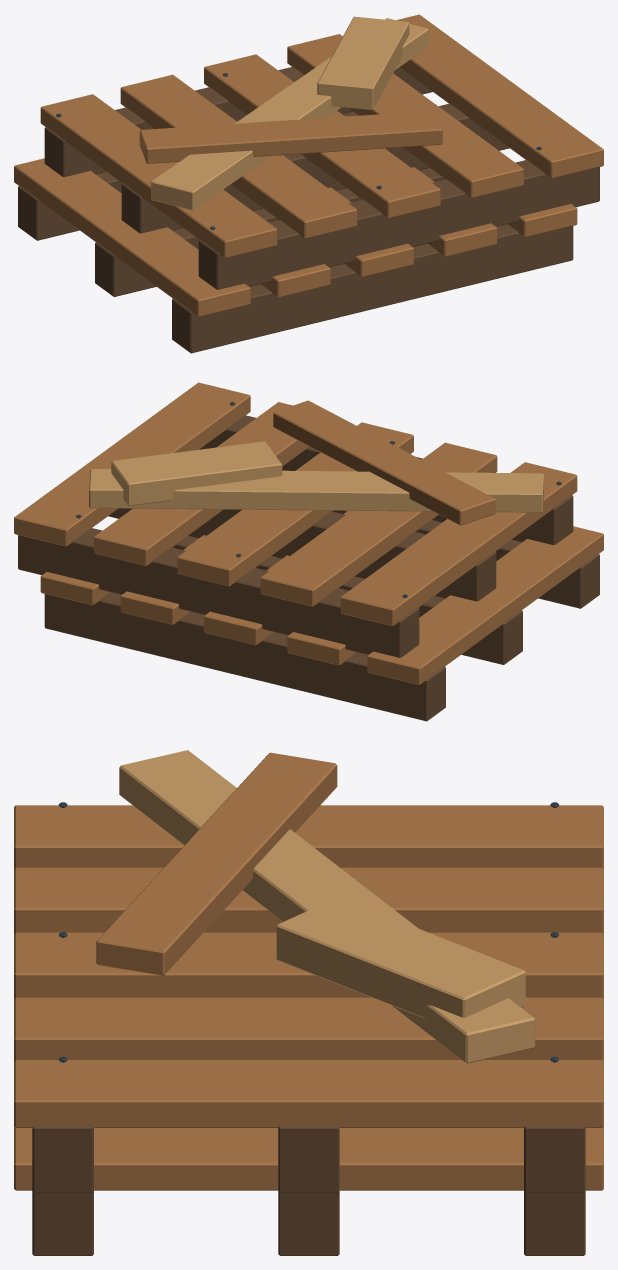
Rendered from b04_broken_pallet_scrap_stack.glb.
3 renders of one model, top to bottom at view 1: azimuth 30°, elevation 25°; view 2: azimuth 150°, elevation 25°; view 3: azimuth 270°, elevation 25°, orthographic. The views are drawn at different scales.
Visible parts, largest first — view 1: b04_broken_pallet_scrap_stack; view 2: b04_broken_pallet_scrap_stack; view 3: b04_broken_pallet_scrap_stack.
Boxes of the visible parts, left/top/right/bottom form: b04_broken_pallet_scrap_stack: left=14, top=14, right=603, bottom=353; b04_broken_pallet_scrap_stack: left=14, top=382, right=603, bottom=721; b04_broken_pallet_scrap_stack: left=14, top=750, right=603, bottom=1255.
Size of the model in its own units: 1.23 by 0.4225 by 0.96.
